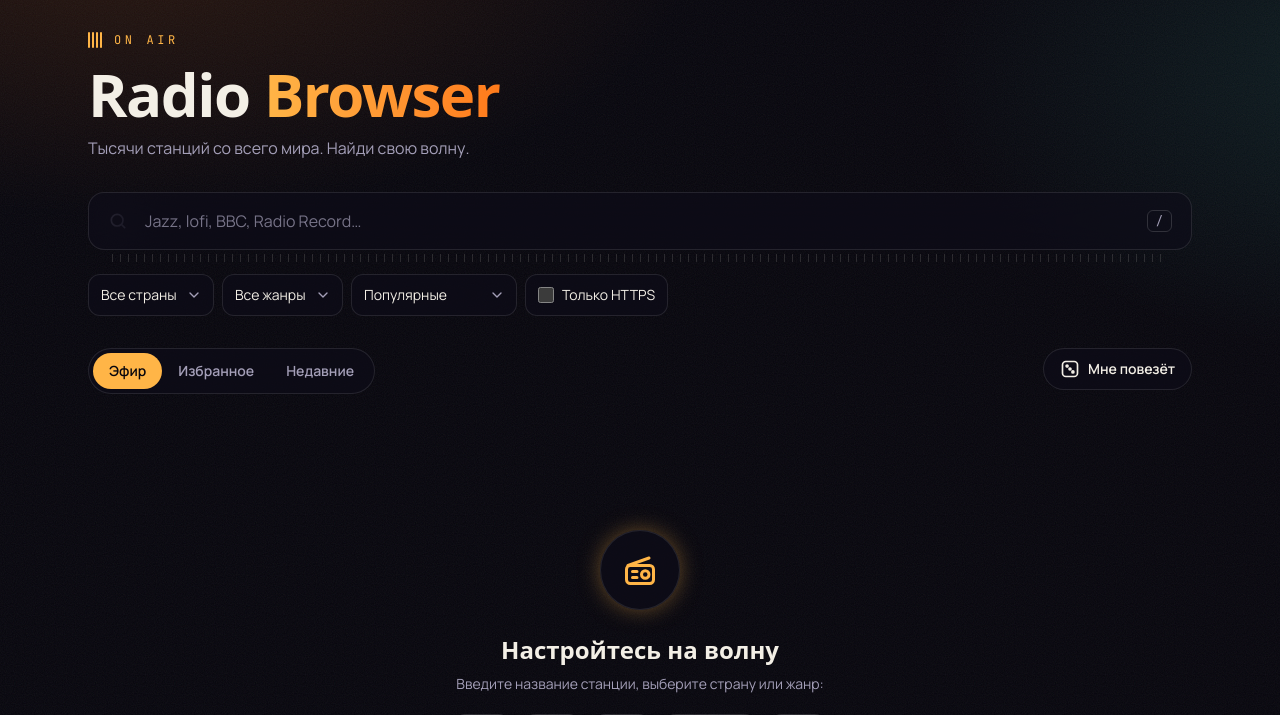
Test: App › показывает пустой результат
Type "zzzz" into the search field named "Поиск станции по названию" at (640, 221), box [88, 192, 1192, 250]
Then press Enter
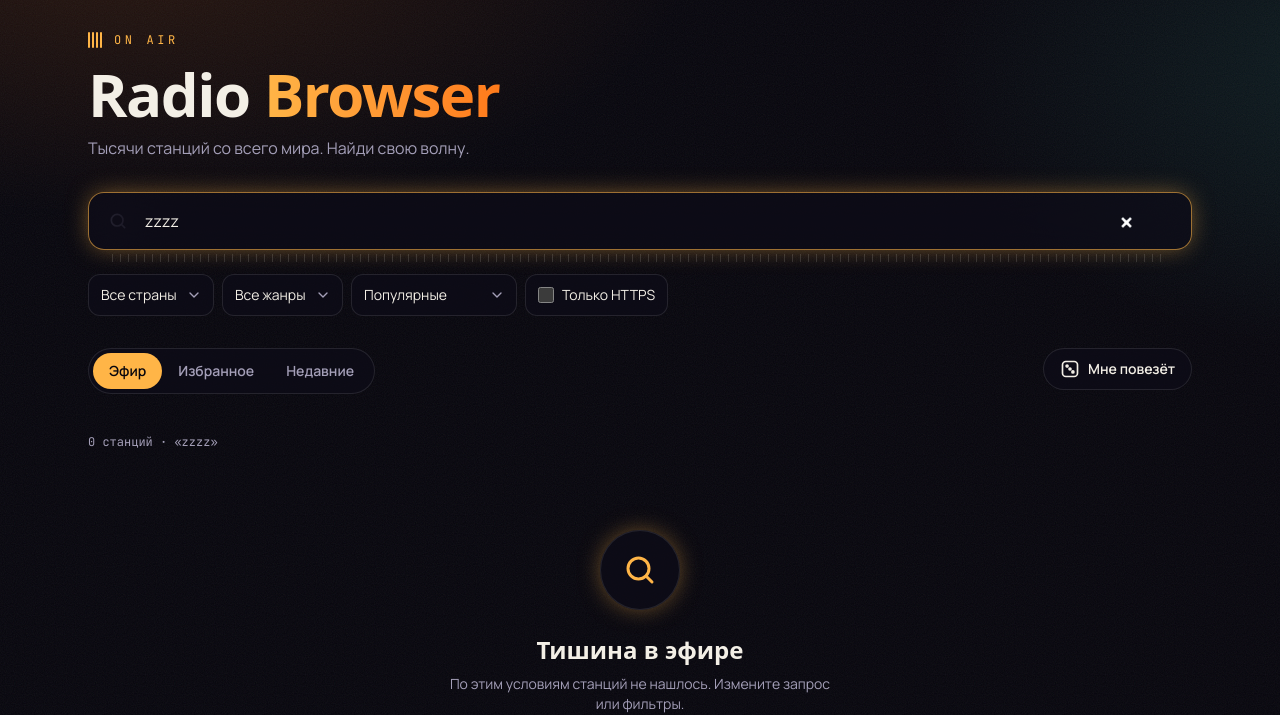
Now the heading "Тишина в эфире" is shown, box [536, 634, 744, 666]
